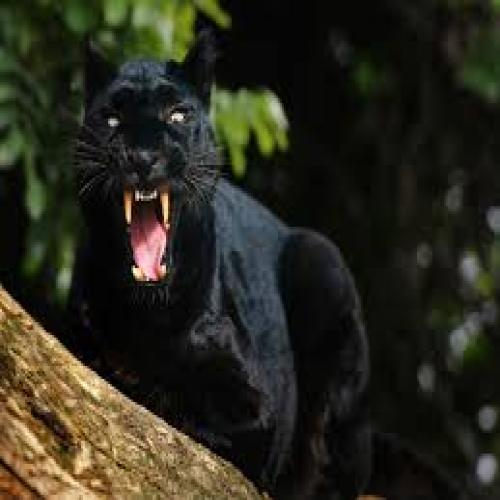panther-endangered: (76, 35, 372, 500)
